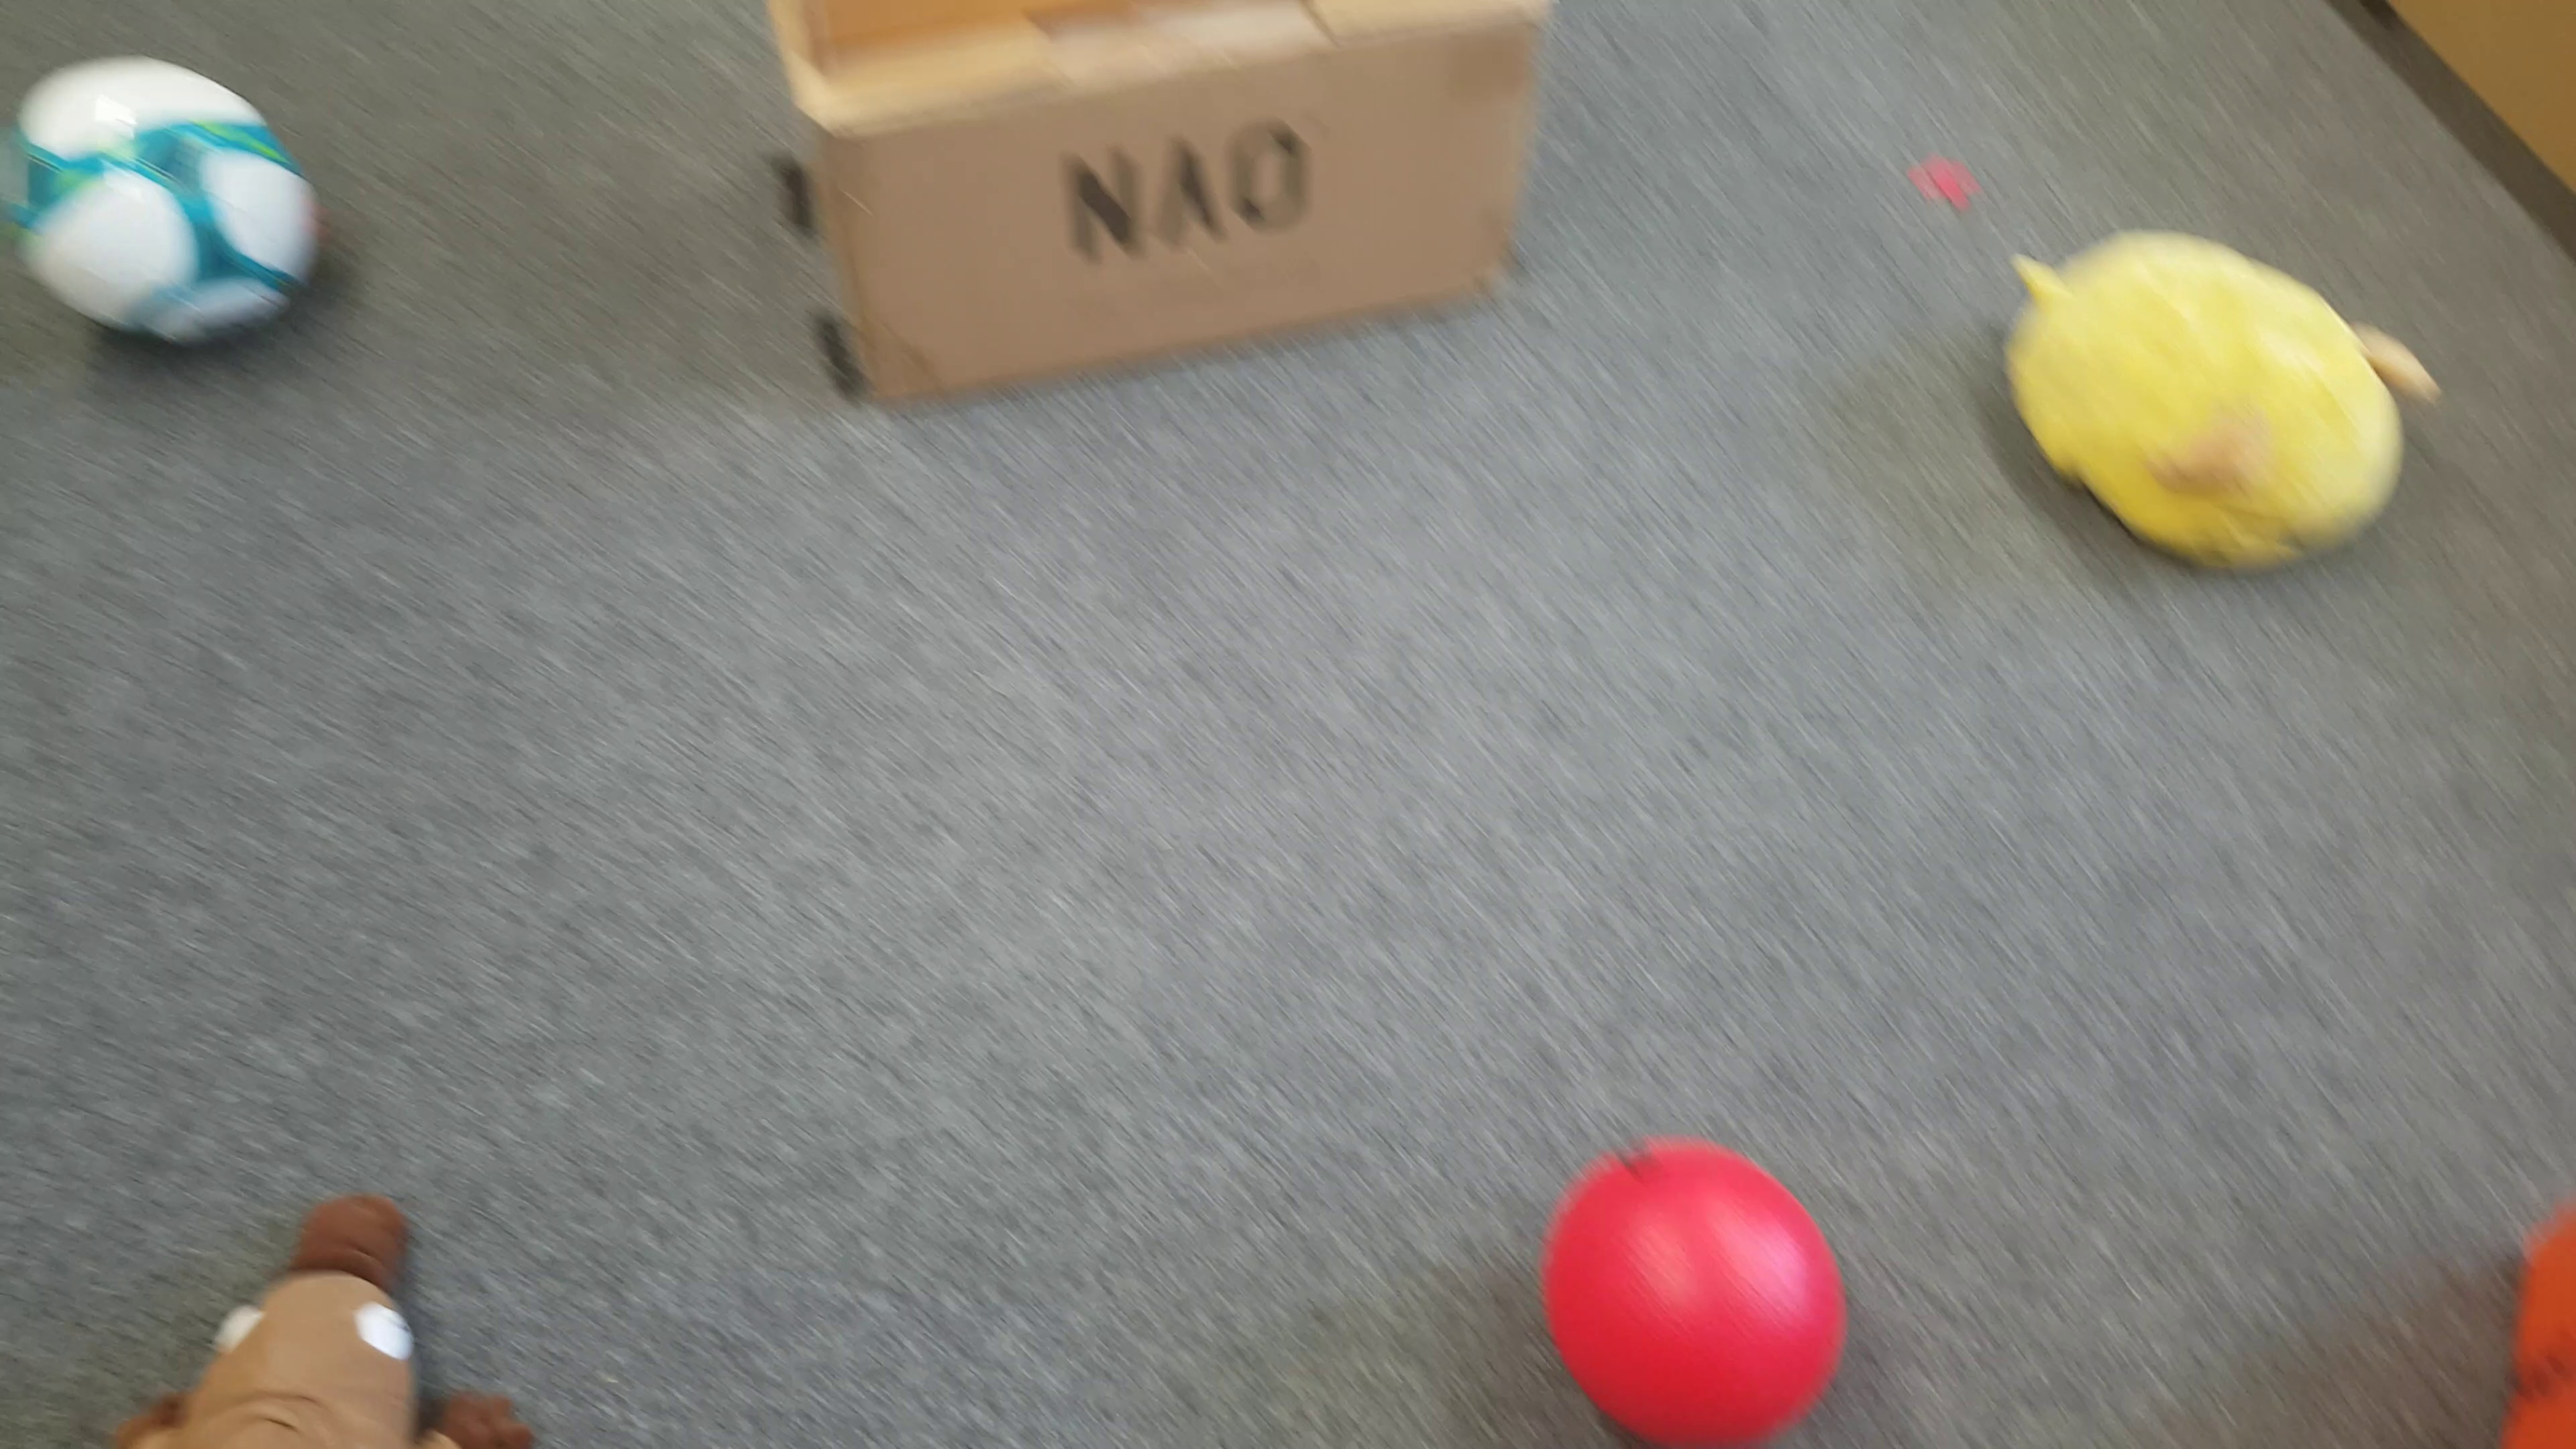grasp: (1996, 226, 2436, 584), (104, 1192, 533, 1449)
kick: (1543, 1134, 1851, 1449), (7, 55, 317, 347)
